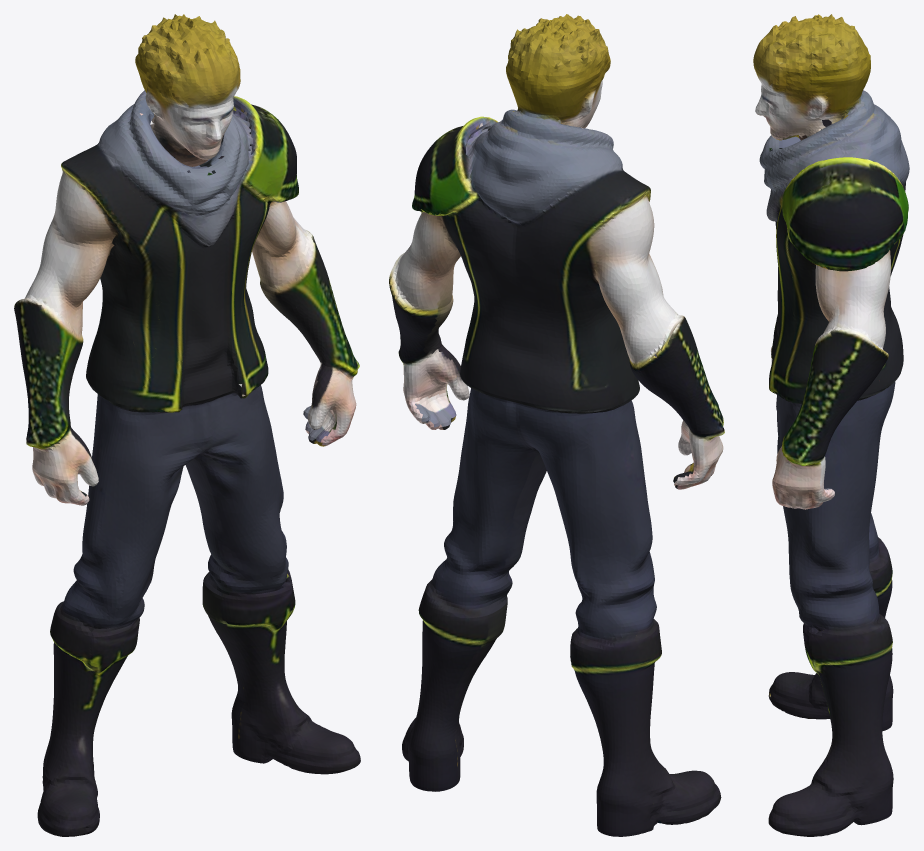
File: zerin.glb
3 views of the same model, side by side, from view 1: azimuth 30°, elevation 25°; view 2: azimuth 150°, elevation 25°; view 3: azimuth 270°, elevation 25° (orthographic). The views are drawn at different scales.
Parts seen in each view (by area): view 1: tmp70bvzp2r.ply; view 2: tmp70bvzp2r.ply; view 3: tmp70bvzp2r.ply.
Boxes of the visible parts, box(x1,y1,x2,y2) form: tmp70bvzp2r.ply: box(14, 14, 360, 836); tmp70bvzp2r.ply: box(389, 14, 724, 836); tmp70bvzp2r.ply: box(753, 14, 909, 836).
Size of the model in its own units: 0.8872 by 1.99 by 0.3753.
1 material, 1 textured.
